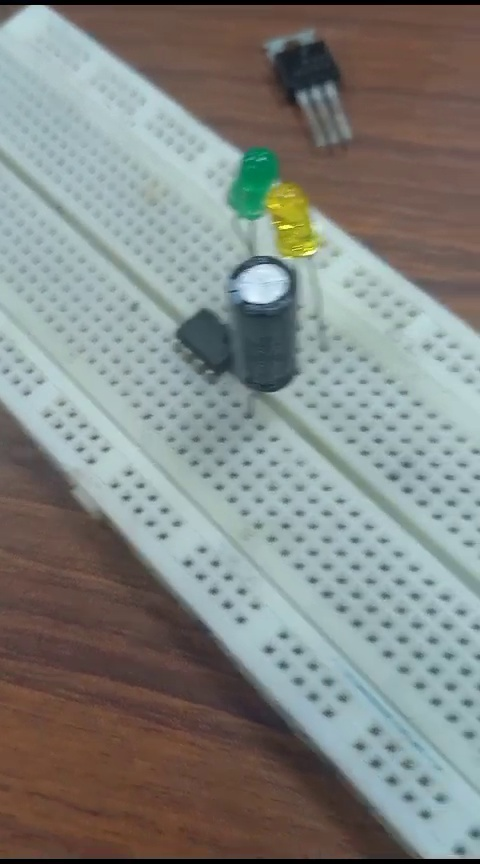IC: (163, 311, 243, 383)
LED: (264, 180, 328, 275), (232, 136, 282, 228)
capacitor: (218, 249, 311, 404)
voltage regulator: (250, 27, 367, 143)
